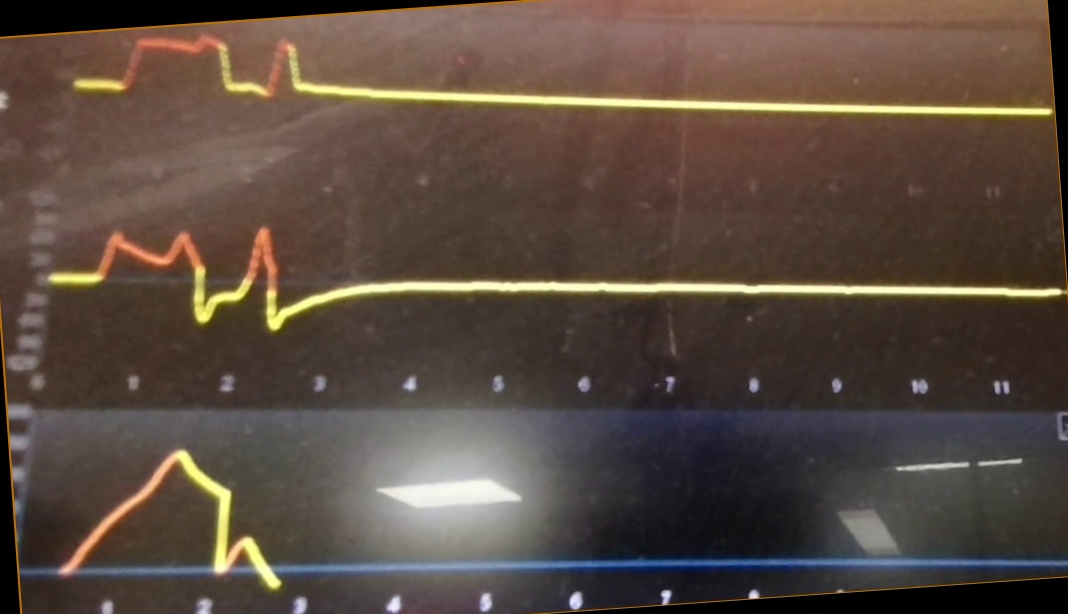Double_Triggering Flow: (58, 200, 1057, 363)
Double_Triggering Volume: (48, 432, 508, 592)
